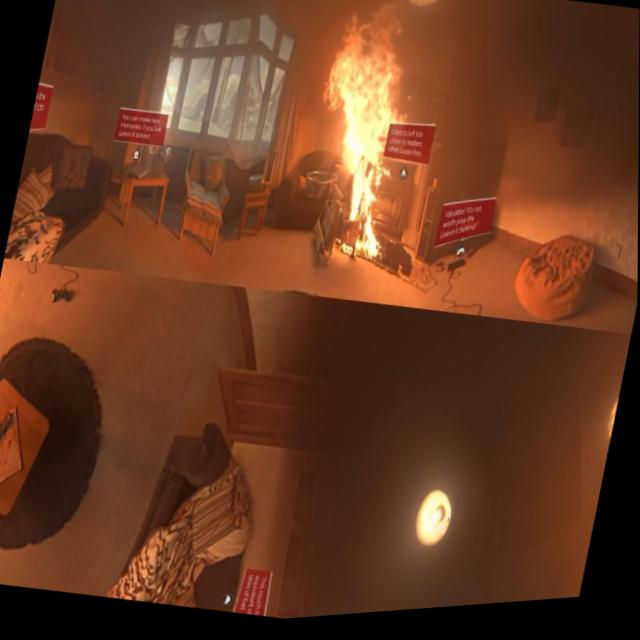fire: (294, 5, 427, 274)
